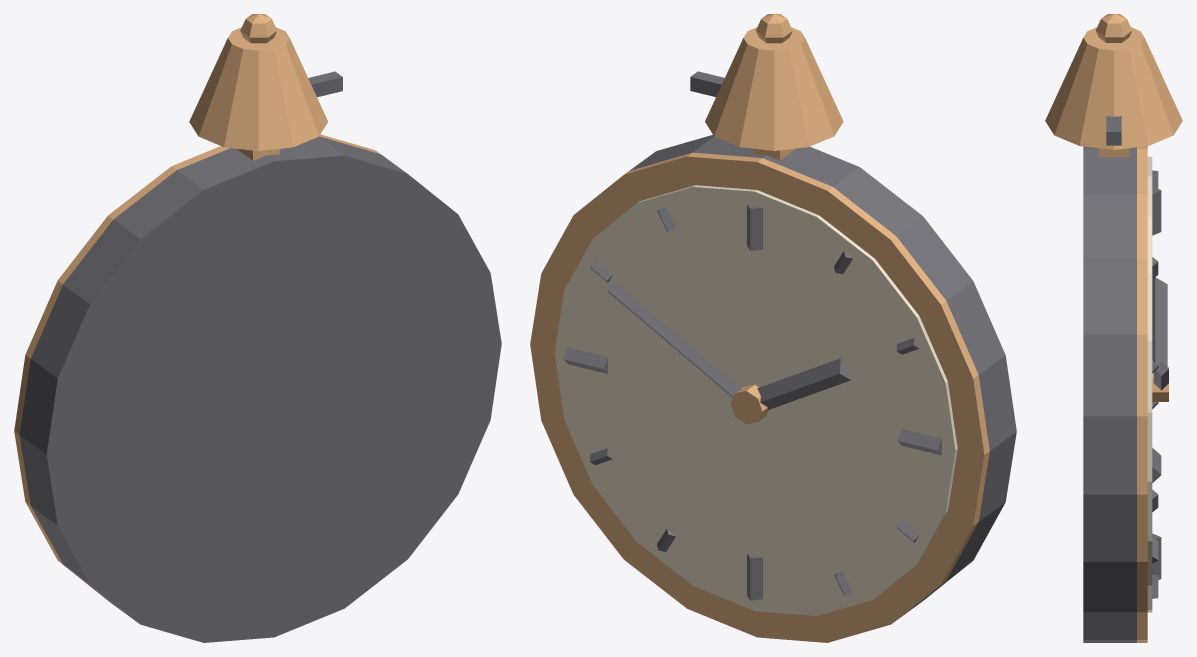
File: wall_clock.glb
The picture shows the model from 3 angles, left to right: view 1: azimuth 30°, elevation 25°; view 2: azimuth 150°, elevation 25°; view 3: azimuth 270°, elevation 25°; orthographic projection.
Visible parts, largest first — view 1: WallClock; view 2: WallClock; view 3: WallClock.
Boxes of the visible parts, x1=… form: WallClock: x1=14, y1=14, x2=501, y2=642; WallClock: x1=530, y1=14, x2=1016, y2=642; WallClock: x1=1045, y1=14, x2=1182, y2=642.
Bounding box in the file's own units: 0.34 × 0.437 × 0.09.
